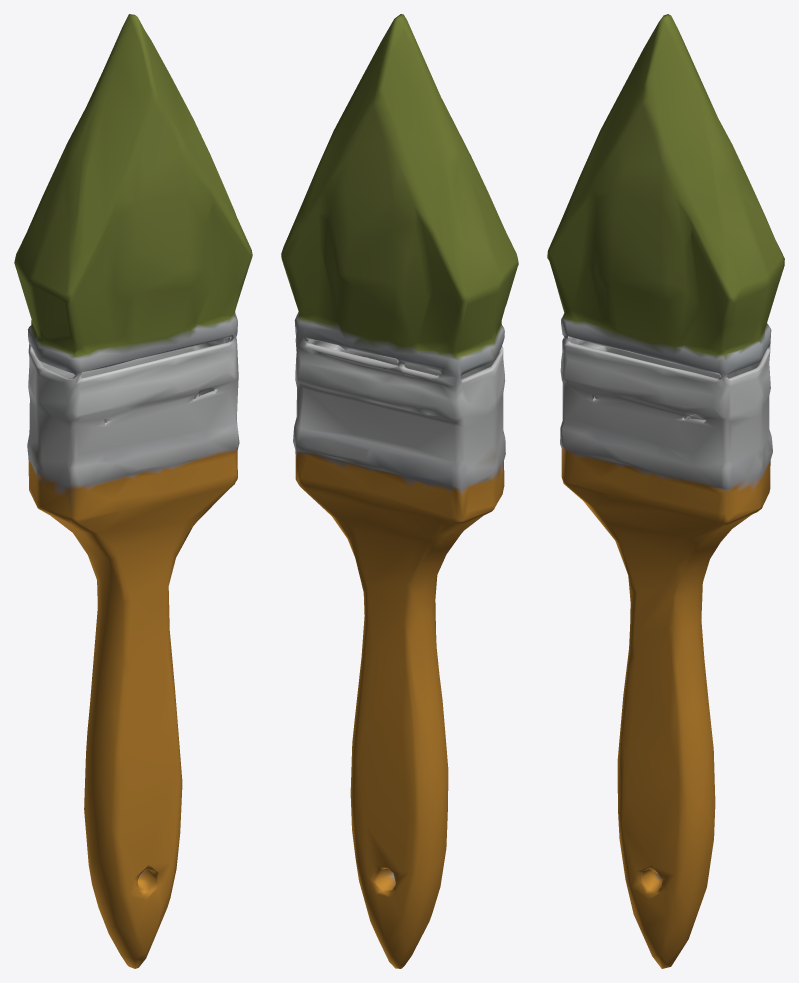
File: gen3d-paintbrush-lod0.glb
3 renders of one model, left to right at view 1: azimuth 30°, elevation 25°; view 2: azimuth 150°, elevation 25°; view 3: azimuth 330°, elevation 25°, orthographic.
Parts seen in each view (by area): view 1: part_0; view 2: part_0; view 3: part_0.
Part boxes in pixels (bbox=[...]): part_0: bbox=[14, 14, 252, 968]; part_0: bbox=[281, 14, 518, 968]; part_0: bbox=[547, 14, 784, 968].
Size of the model in its own units: 0.2244 by 0.9981 by 0.1118.
